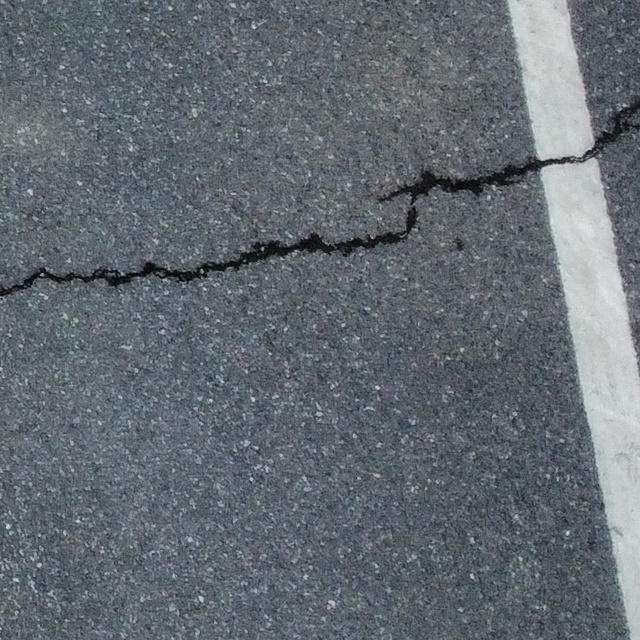TransverseCrack: (1, 97, 640, 299)
